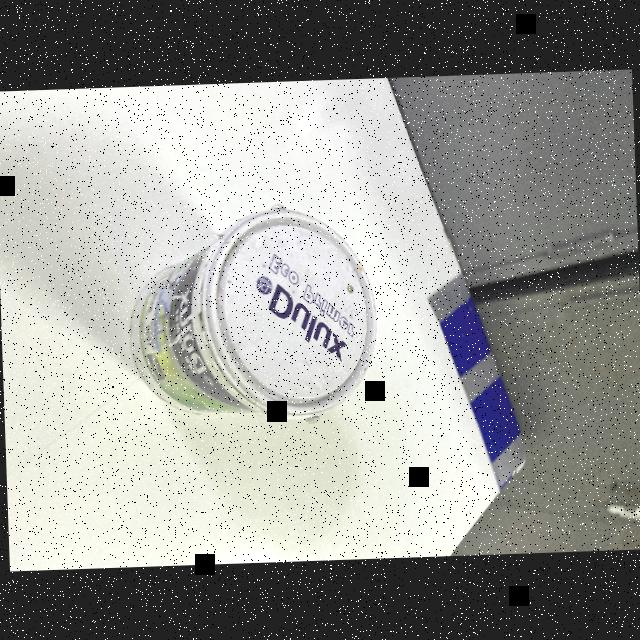paint_bucket: (110, 196, 390, 438)
